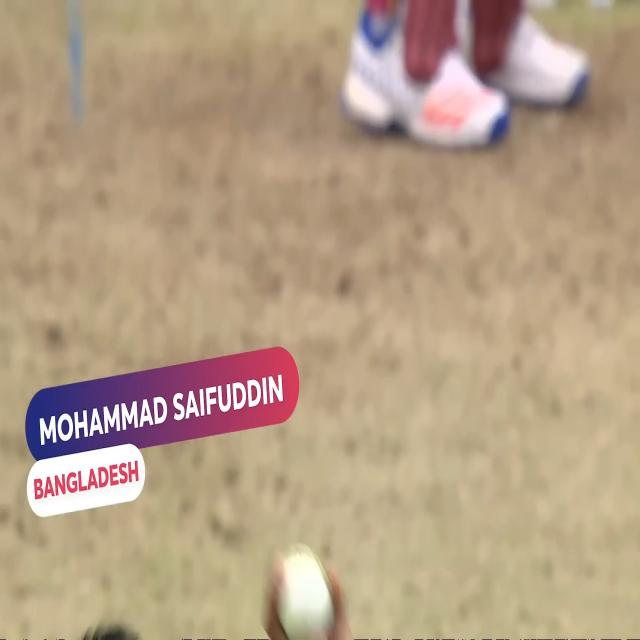ball: (271, 537, 341, 638)
